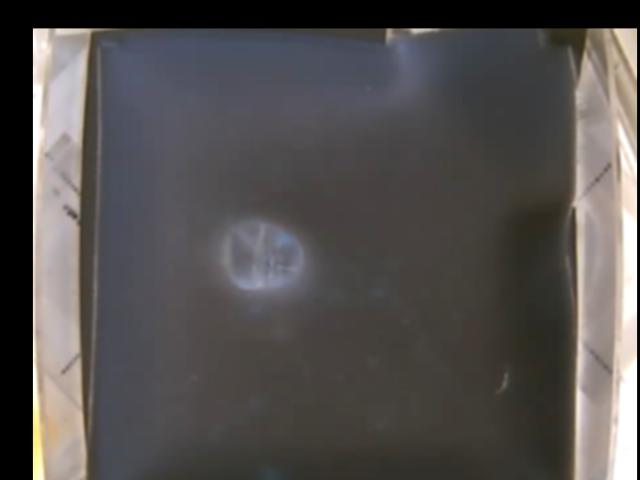Pebble: (225, 221, 302, 290)
